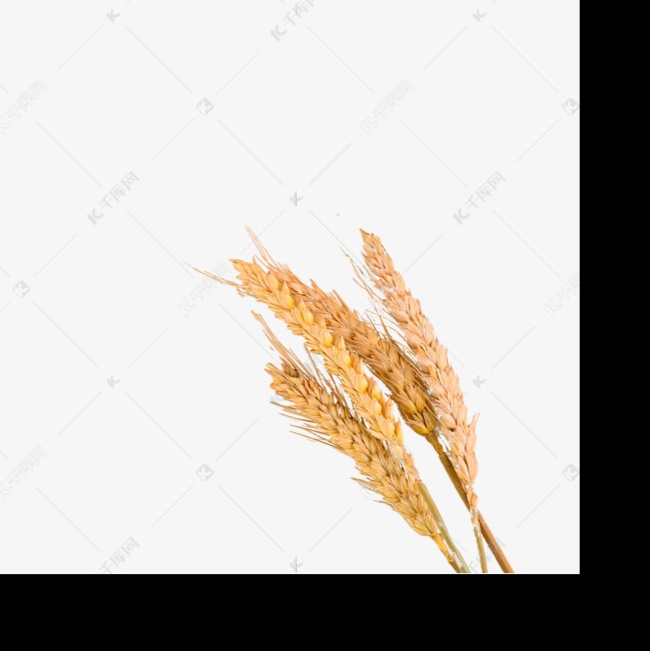wheat: (272, 359, 445, 557), (239, 253, 430, 430), (368, 222, 478, 481)
